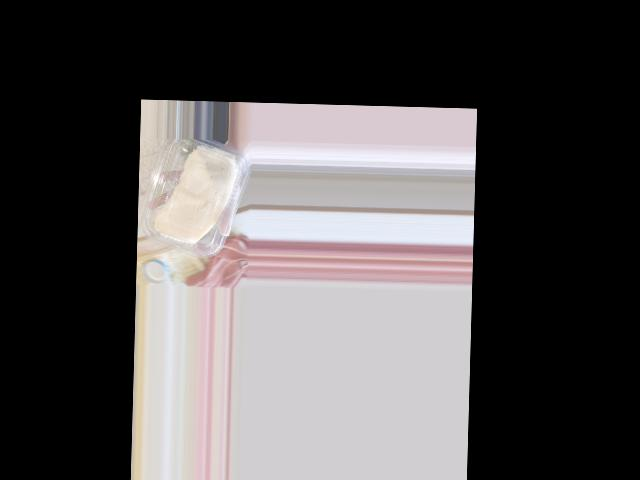cheese: (143, 137, 244, 260)
